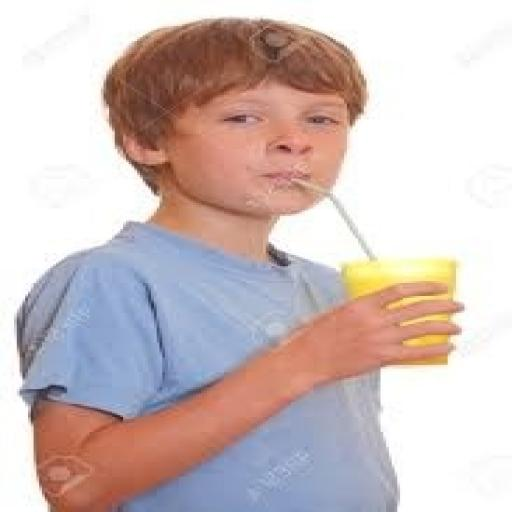drinking: (93, 25, 512, 464)
